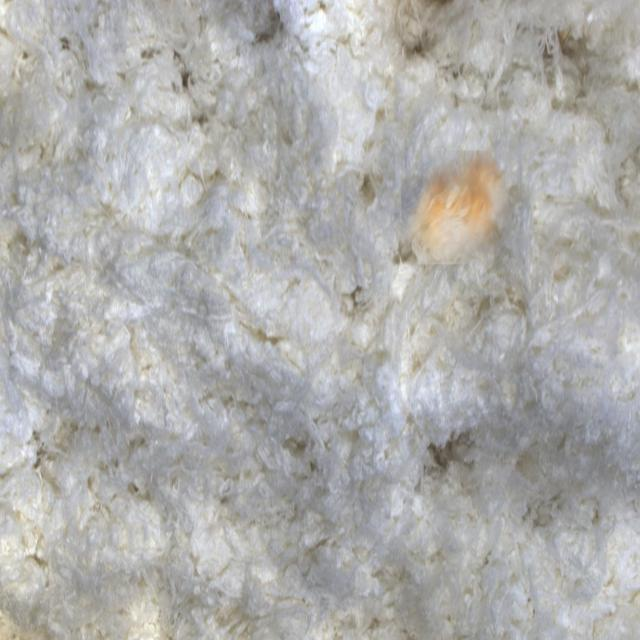dust: (401, 151, 509, 265)
